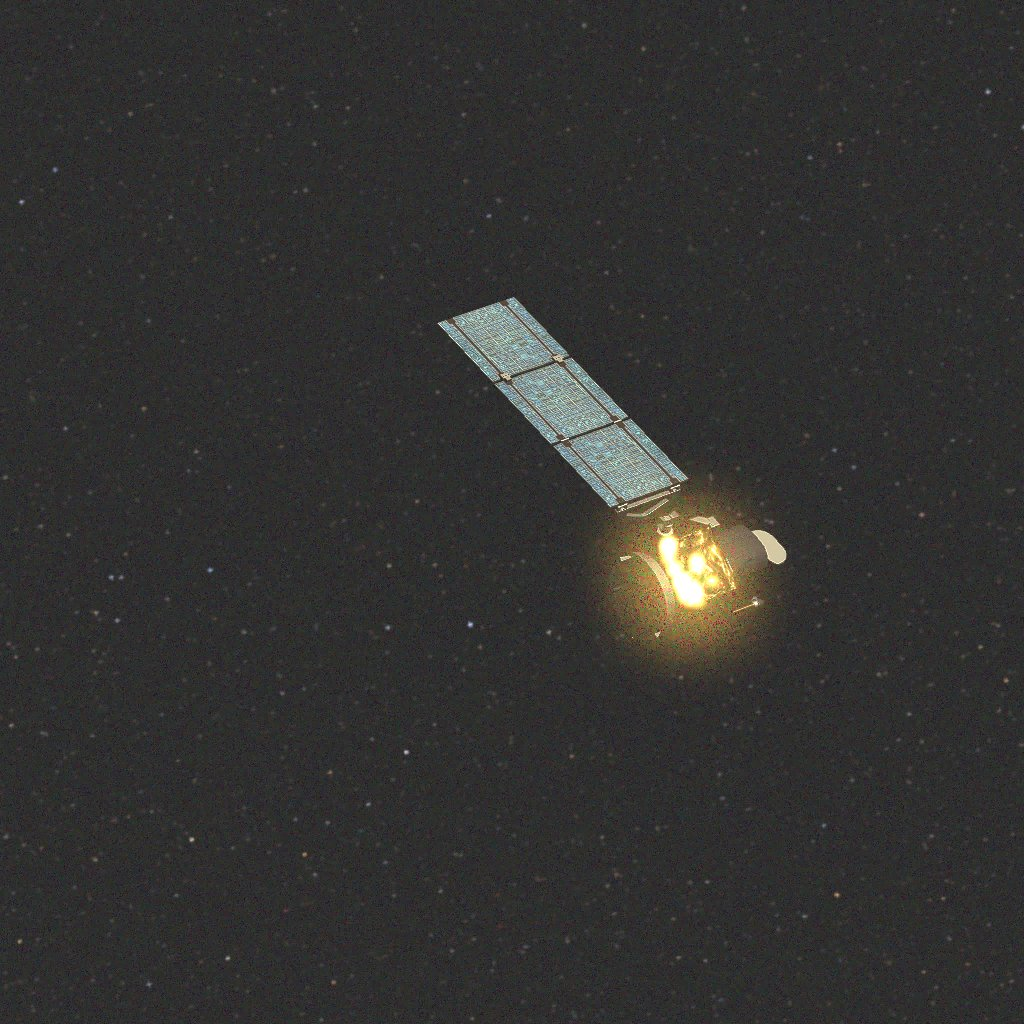earth_observation_sat_1: (454, 319, 773, 628)
